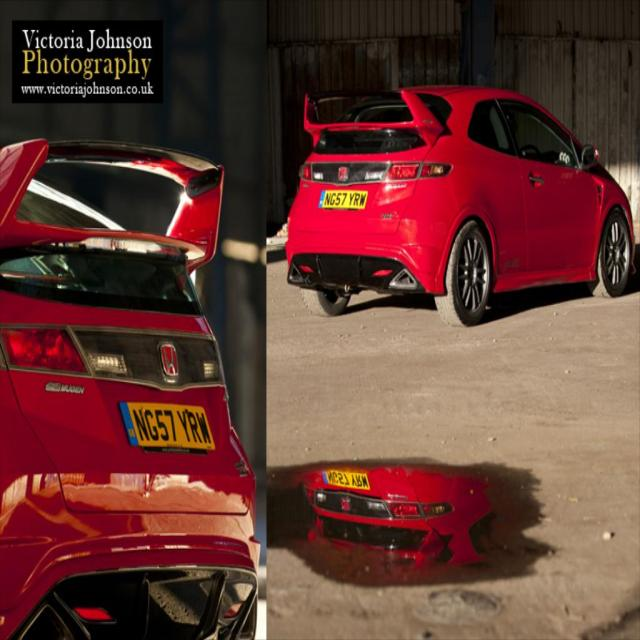other: (0, 137, 258, 638), (282, 83, 638, 331)
